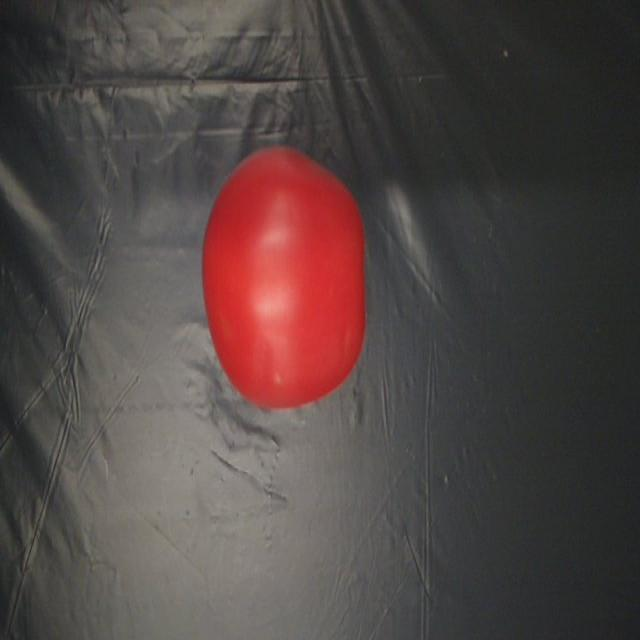kirmizi: (186, 132, 394, 426)
